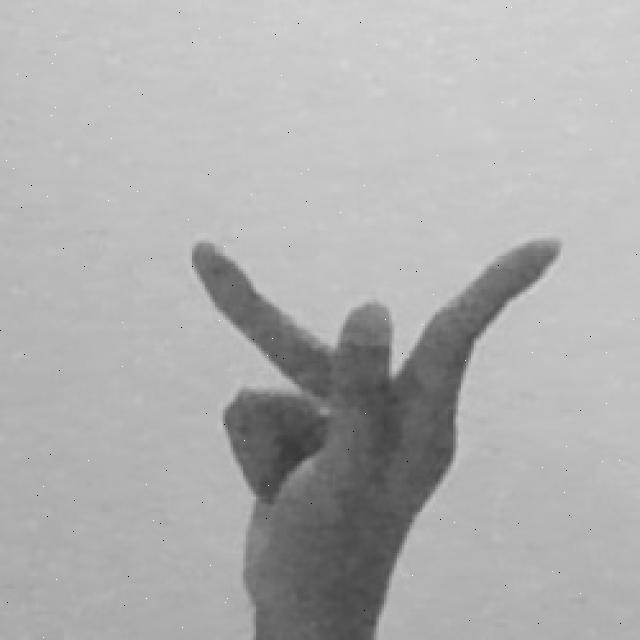K: (187, 233, 563, 640)
